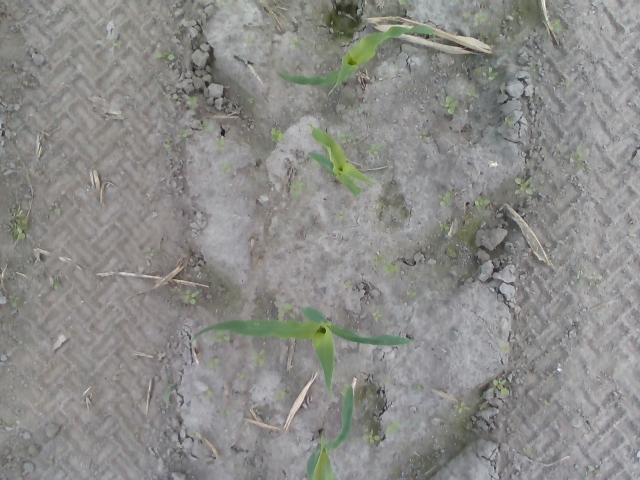Maize: (190, 303, 413, 391), (276, 24, 436, 97), (309, 125, 380, 200), (304, 383, 356, 479)
Weeds: (5, 206, 30, 241), (371, 253, 400, 274), (491, 376, 513, 396), (462, 11, 491, 26), (514, 176, 534, 196), (439, 93, 458, 114), (476, 64, 499, 81), (451, 399, 474, 416), (276, 301, 294, 321), (182, 288, 200, 308), (366, 428, 382, 446), (206, 330, 226, 344), (156, 51, 178, 63), (386, 418, 402, 434), (438, 192, 454, 208), (252, 350, 268, 366), (289, 182, 304, 198), (475, 197, 492, 209), (274, 386, 288, 400), (184, 94, 198, 108), (209, 354, 221, 370), (8, 295, 22, 308), (371, 308, 384, 321), (270, 130, 283, 143), (574, 146, 586, 160), (50, 278, 64, 290), (366, 144, 379, 156), (550, 17, 562, 30), (464, 212, 479, 222), (220, 162, 232, 174), (176, 128, 189, 139), (214, 134, 224, 146), (438, 222, 450, 231), (412, 382, 422, 392), (336, 210, 344, 221), (396, 0, 409, 6)
